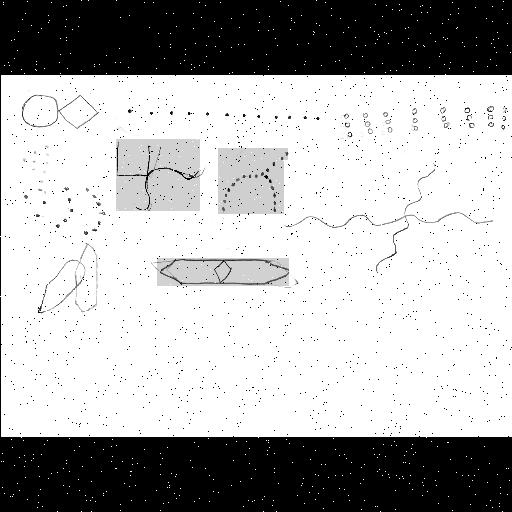shape-1: (18, 92, 98, 132)
shape-2: (124, 104, 320, 128)
shape-3: (340, 104, 504, 138)
shape-4: (22, 184, 108, 236)
shape-5: (116, 139, 200, 211)
shape-6: (218, 148, 288, 214)
shape-7: (284, 160, 492, 272)
shape-8: (38, 244, 96, 312)
shape-9: (157, 258, 289, 286)
